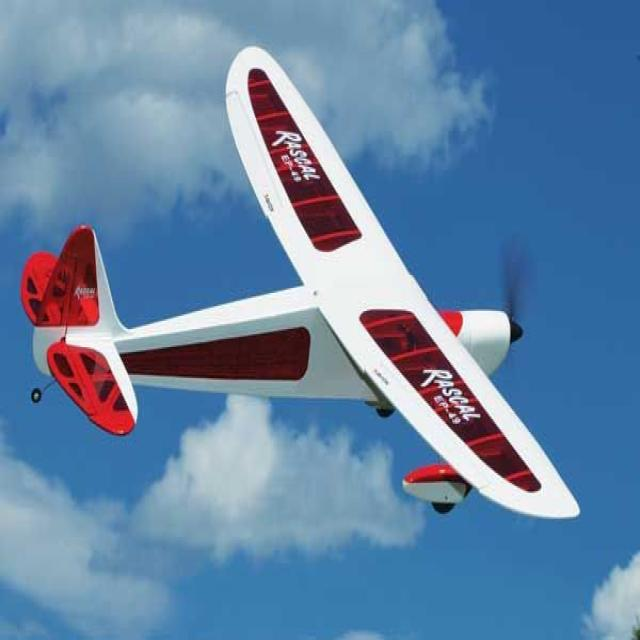iha: (20, 42, 582, 522)
